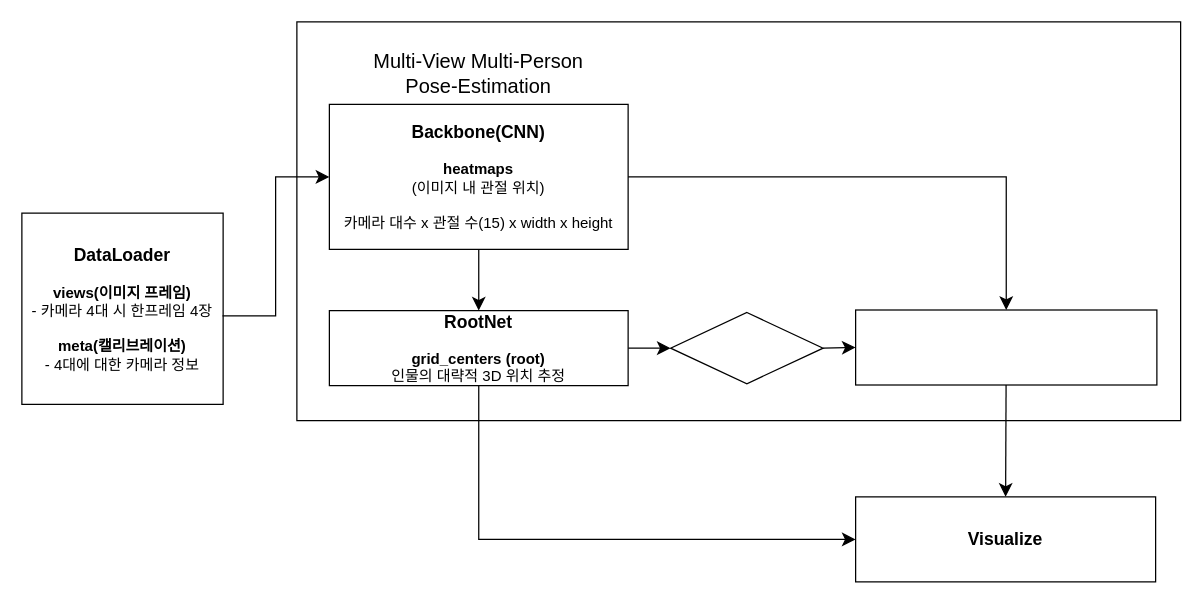
The diagram is 1203 pixels wide and 604 high, and some of its shapes have lost their labels. The shapes that lost their labels are listed below. From the top down, each one's box as (x1, y1, x2, y2) in pixels, then its label:
(669, 311, 823, 384): root in RoI
(854, 309, 1157, 385): PoseNet preds (pose) 인물의 상세한 관절 위치 추정
